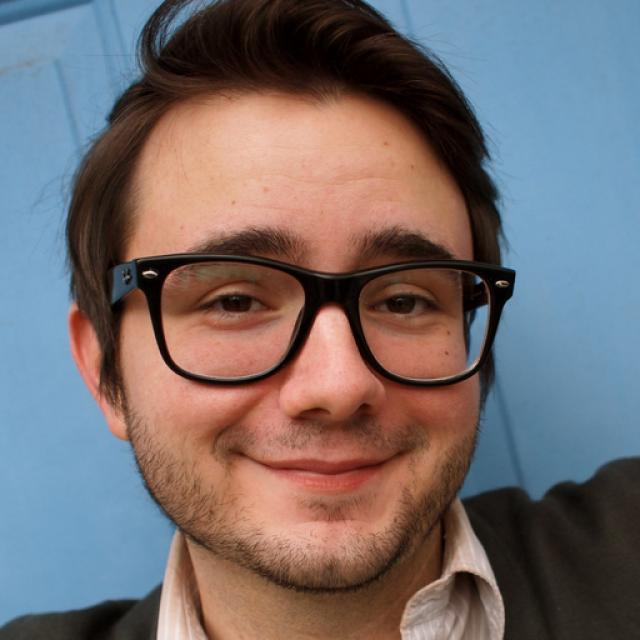happy: (119, 89, 488, 592)
